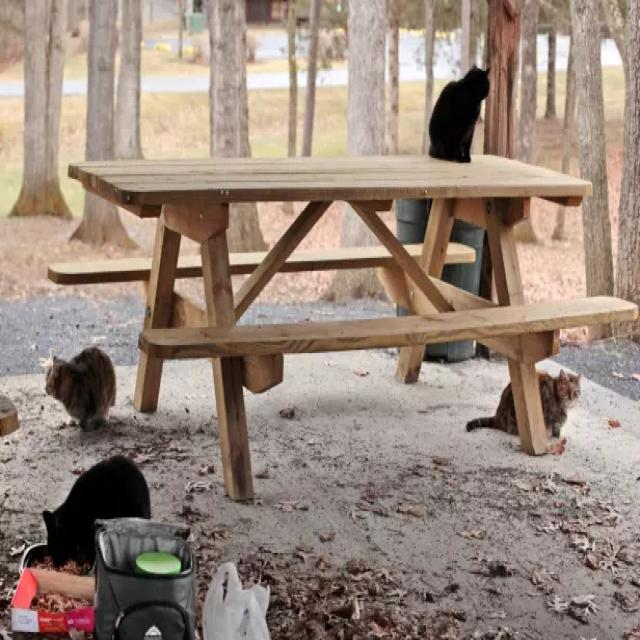cat: (44, 456, 150, 565), (45, 347, 116, 430), (429, 66, 490, 162), (536, 361, 580, 437), (466, 384, 519, 433)
